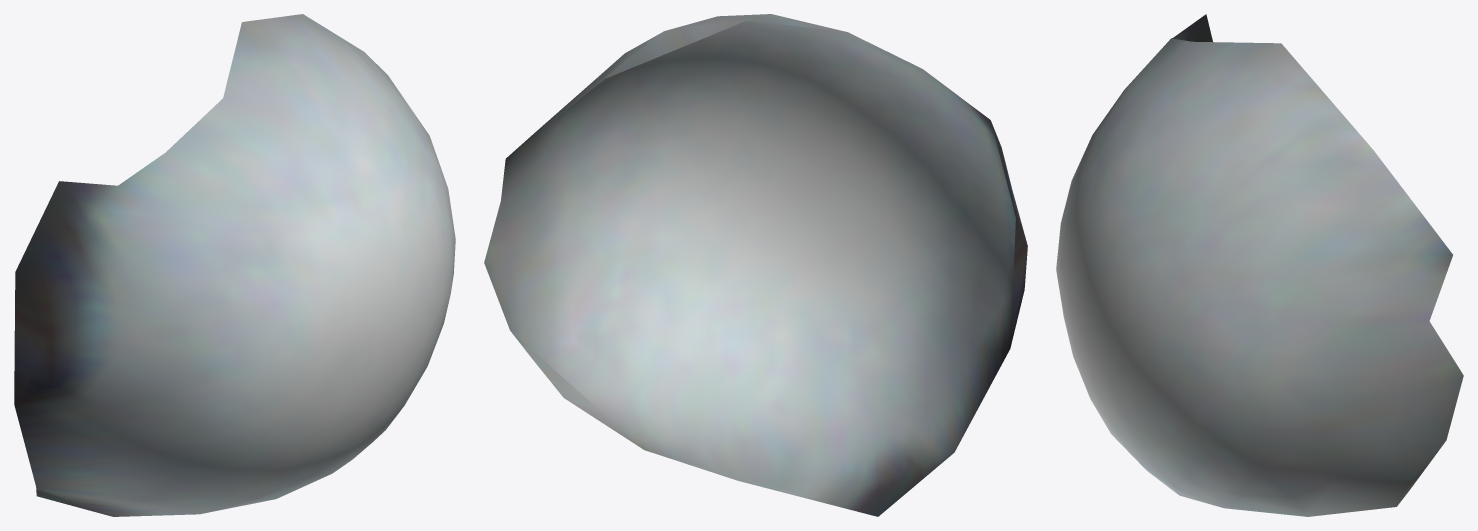
Rendered from Test_20_4.000001_singlesphere_small2.obj.
3 views of the same model, side by side, from view 1: azimuth 30°, elevation 25°; view 2: azimuth 150°, elevation 25°; view 3: azimuth 270°, elevation 25° (orthographic). The views are drawn at different scales.
Size of the model in its own units: 35.88 by 35.21 by 27.54.
Materials: 1 (1 with a texture image).
